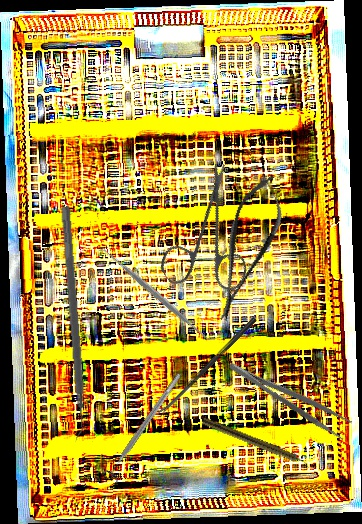Dressing Forceps: (225, 349, 355, 443)
Fixation Ring: (99, 368, 189, 486)
Handpiece: (200, 416, 312, 470)
Iris Scissors: (128, 158, 288, 319)
Micro Scissor: (199, 168, 295, 328)
Spatula Surgical: (95, 240, 219, 350), (51, 206, 91, 443)
Surgical Spoon: (155, 316, 258, 418)
